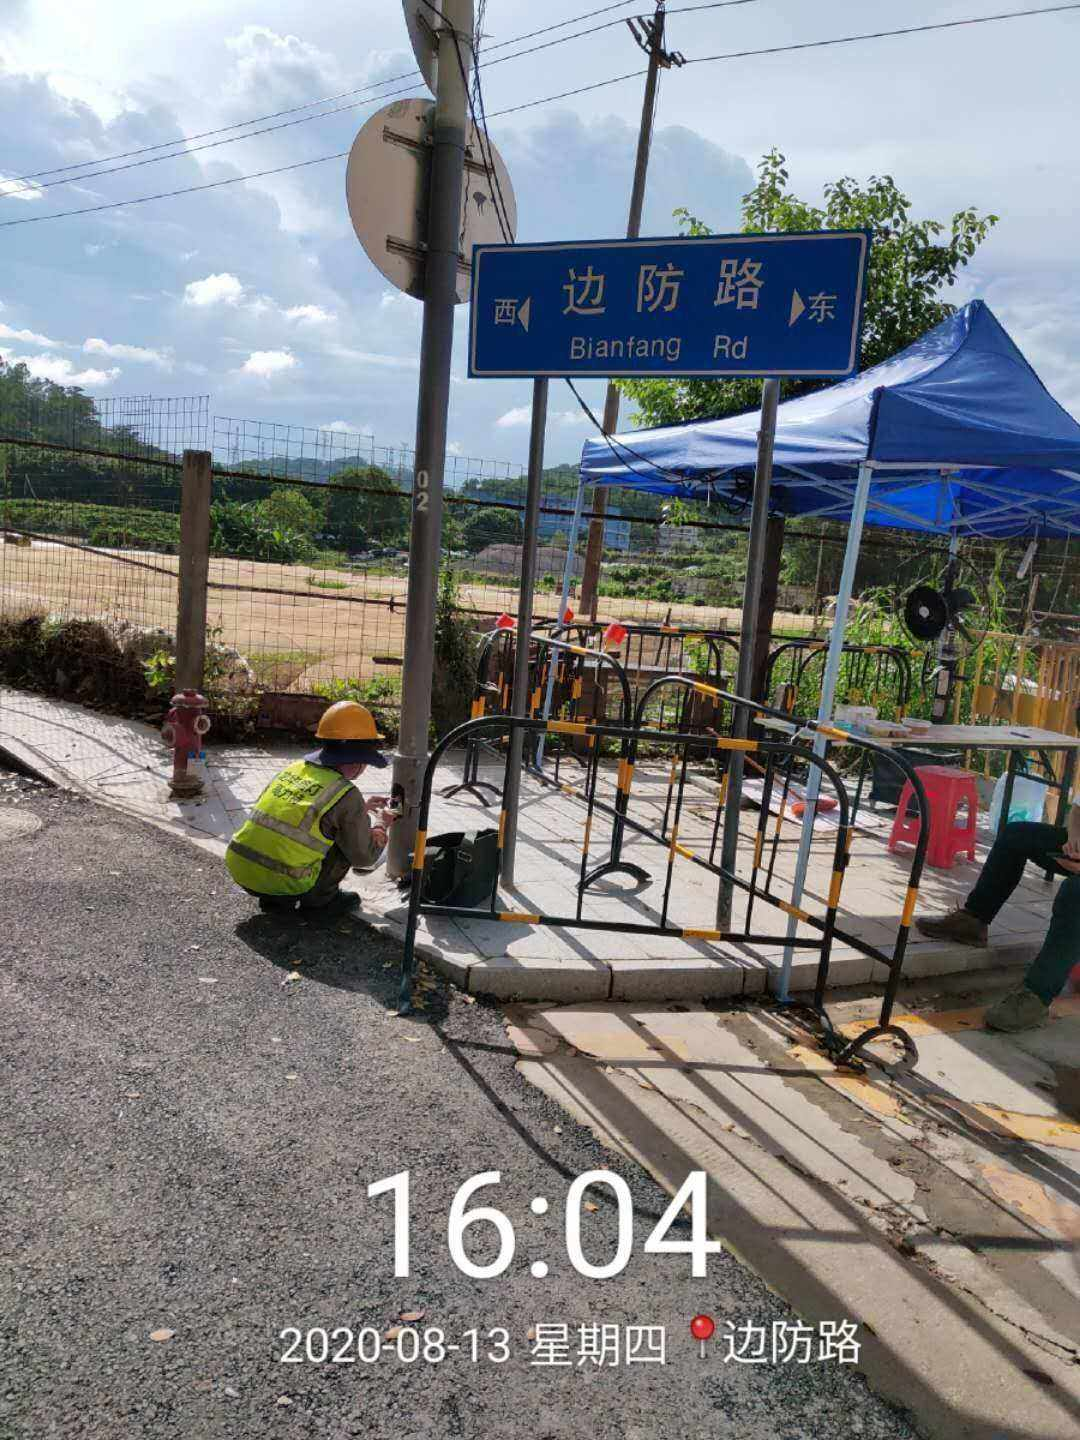person: (222, 699, 405, 928)
reflective_vest: (223, 759, 356, 899)
safety_helmet: (315, 699, 391, 780)
